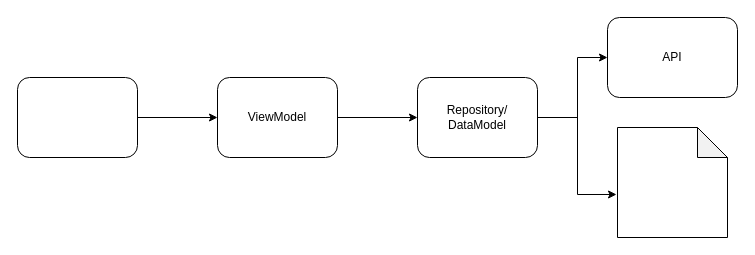
Image size: 755x255. Some labels were removed from this diagram. Each missing label, with the centre of its shape:
Local Storage: the point at 672,182
View: the point at 77,117
